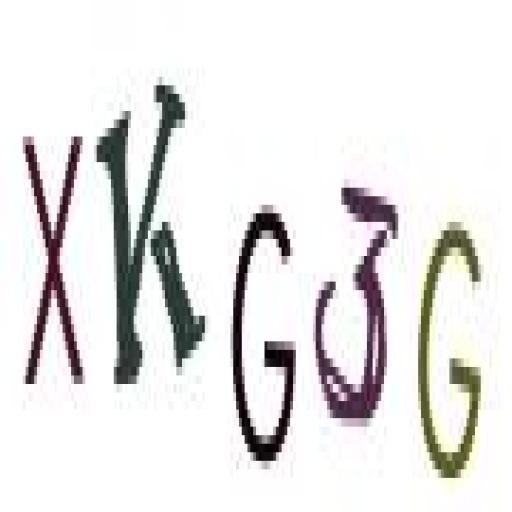3: (316, 170, 406, 440)
G: (416, 203, 496, 510), (224, 184, 298, 484)
K: (94, 60, 208, 395)
X: (12, 122, 95, 404)
